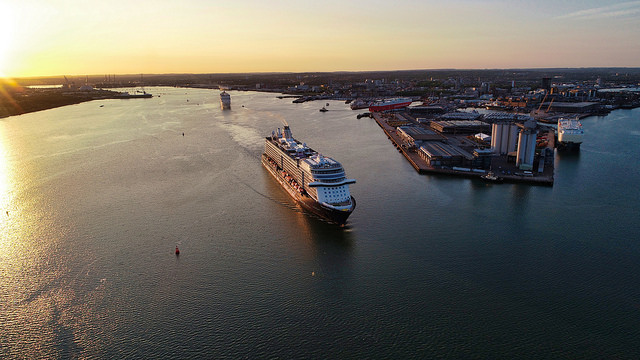PCC: (556, 115, 585, 154), (368, 96, 412, 106)
boat: (313, 105, 330, 112)
cruise_ship: (258, 127, 362, 225), (213, 86, 236, 118)
